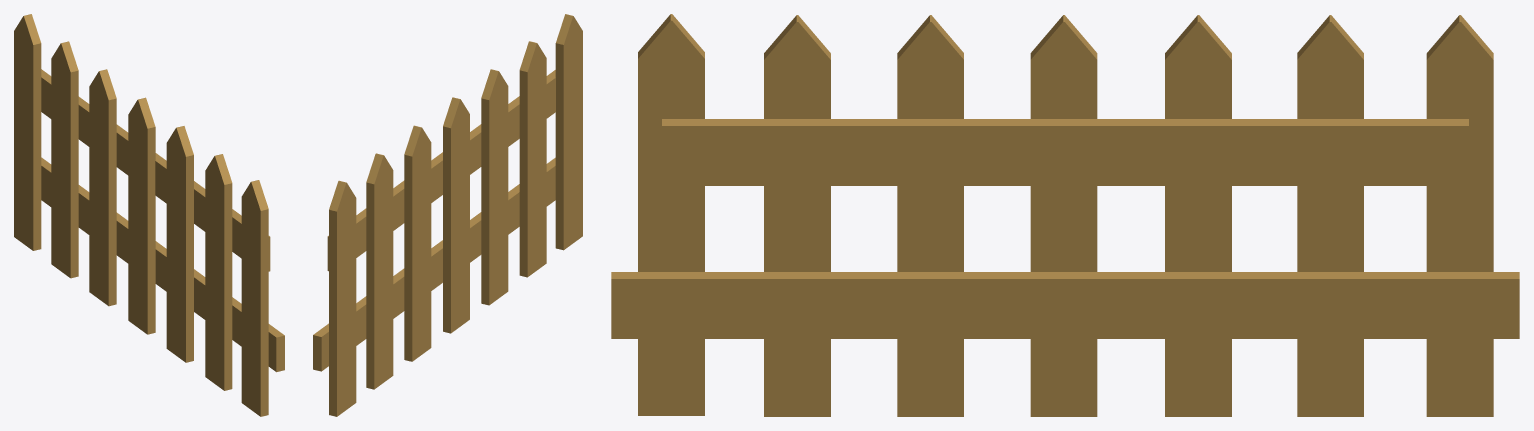
Rendered from fence_2.fbx.
The picture shows the model from 3 angles, left to right: view 1: azimuth 30°, elevation 25°; view 2: azimuth 150°, elevation 25°; view 3: azimuth 270°, elevation 25°; orthographic projection. The views are drawn at different scales.
Visible parts, largest first — view 1: fence; view 2: fence; view 3: fence.
Part boxes in pixels (x1=…): fence: x1=14, y1=14, x2=284, y2=416; fence: x1=313, y1=14, x2=582, y2=416; fence: x1=611, y1=14, x2=1519, y2=416.
Bounding box in the file's own units: 0.1679 × 2.22 × 4.61.
